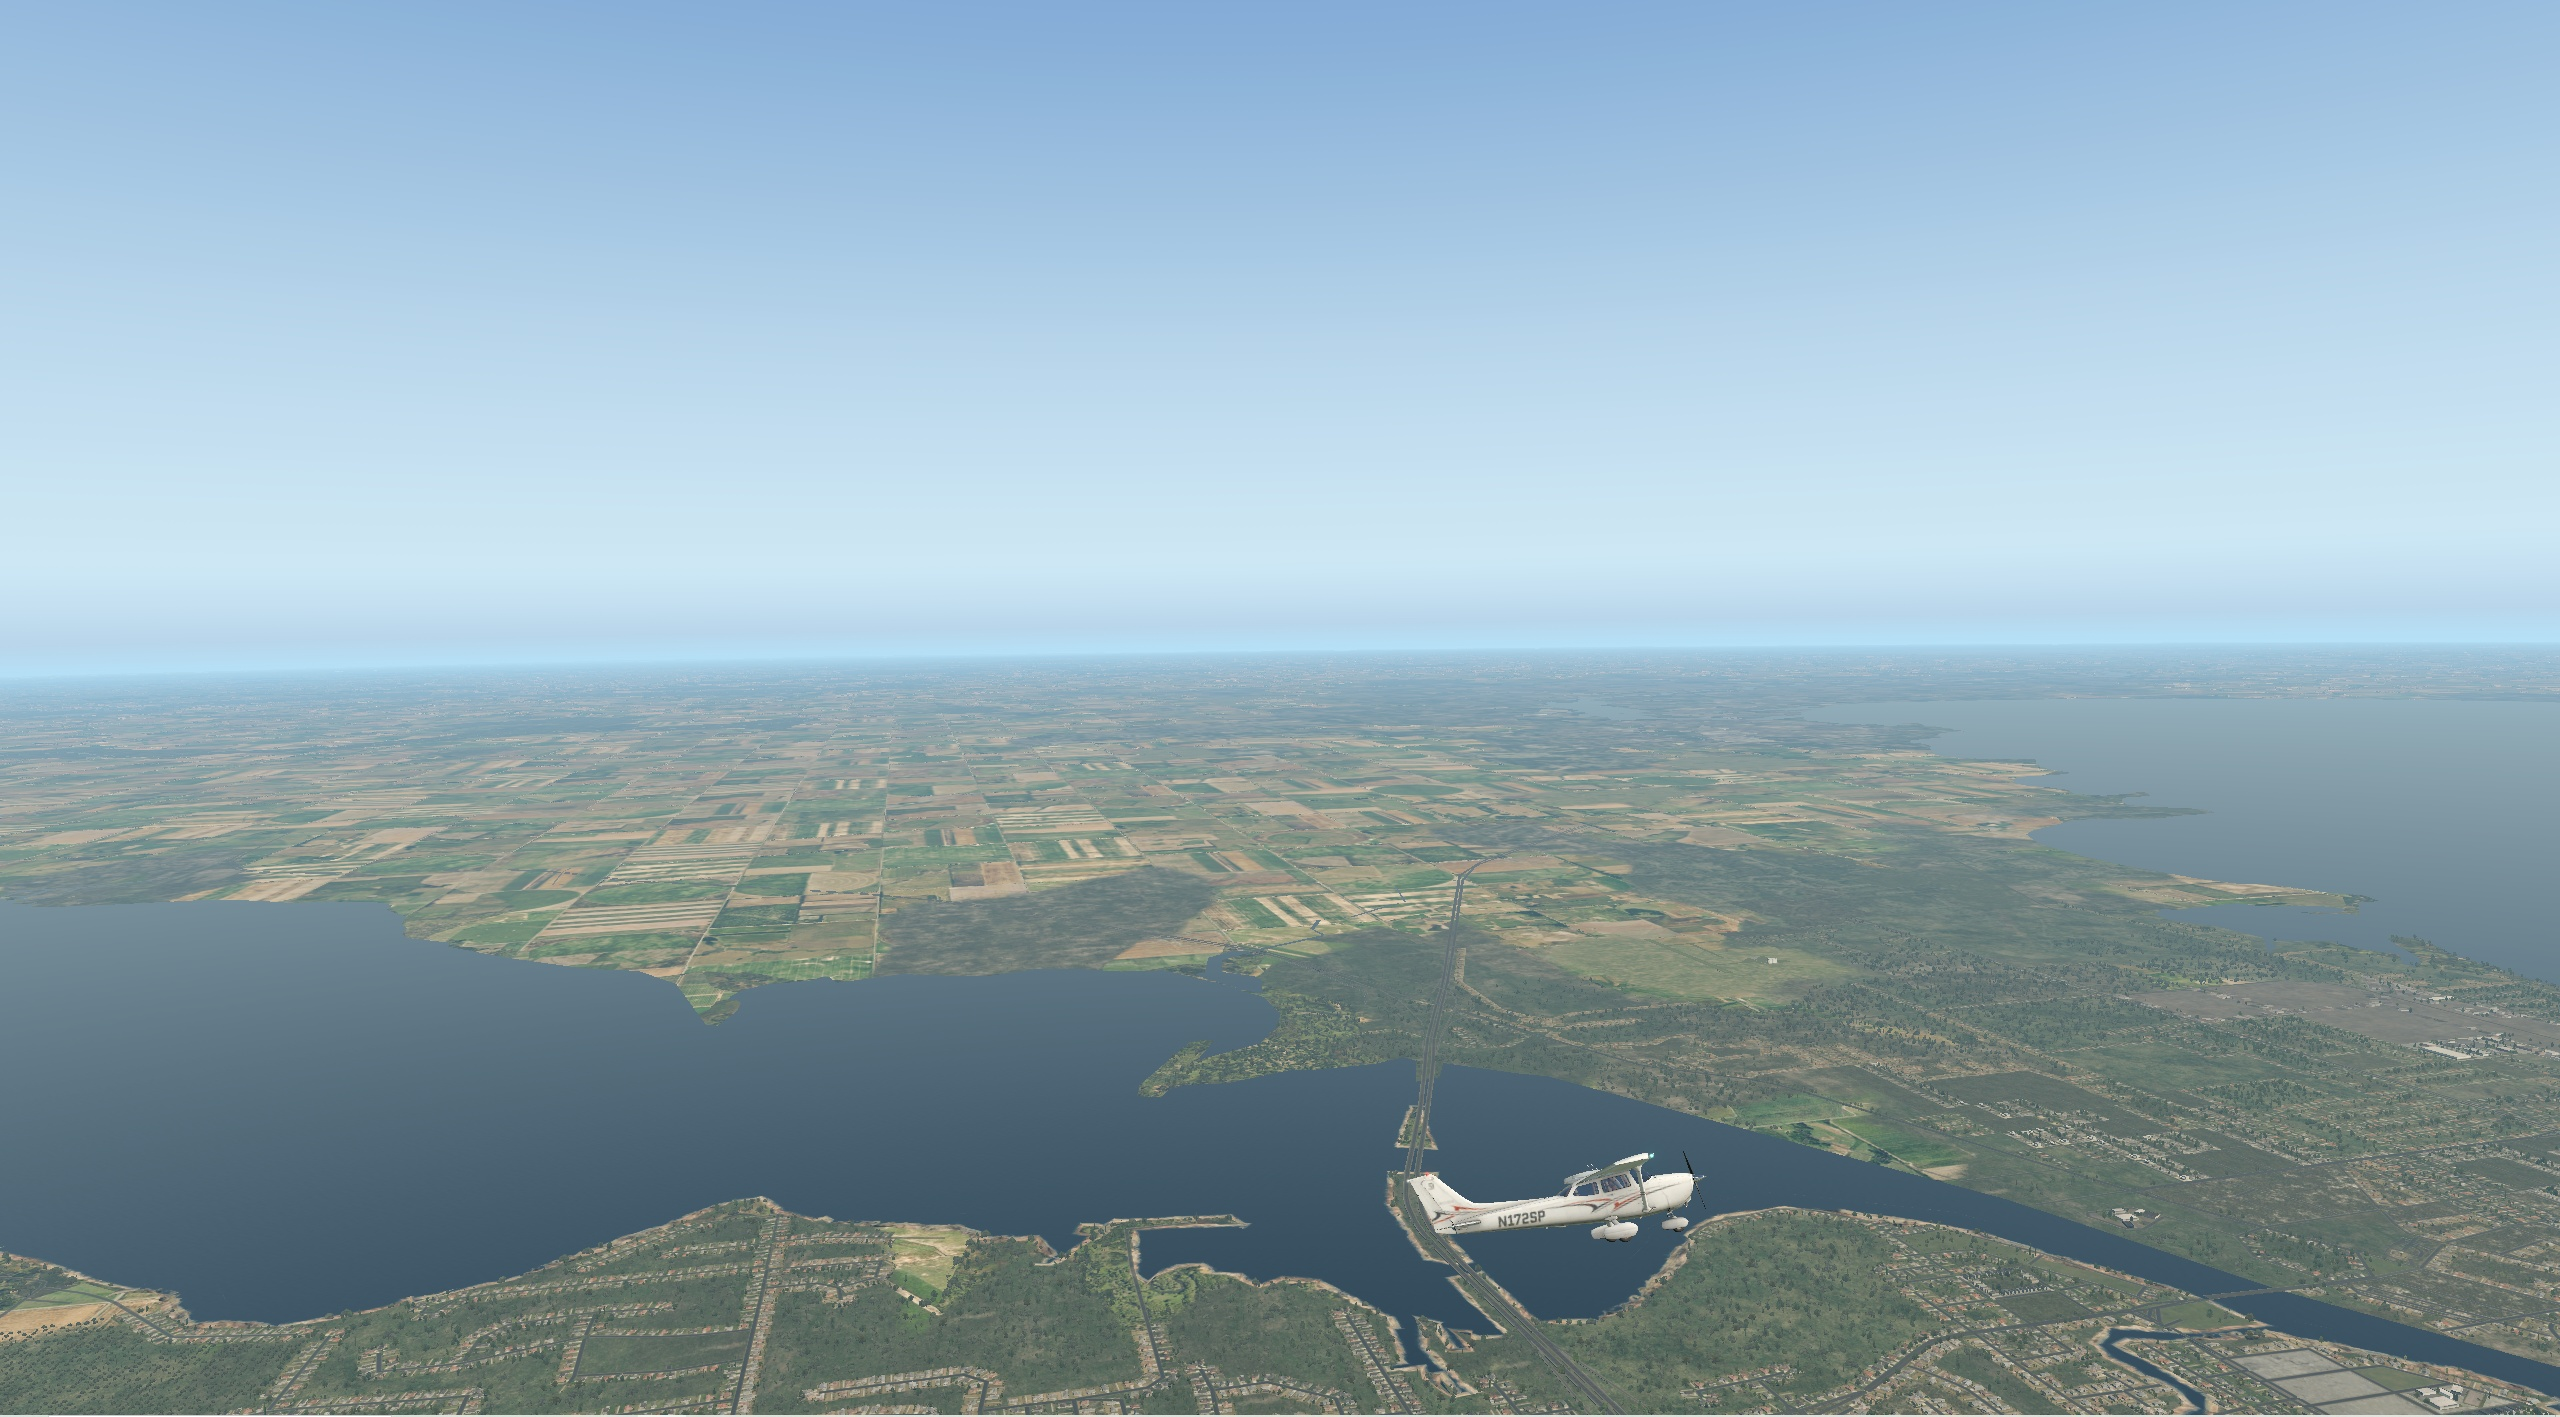aircraft: (1402, 1110, 1837, 1273)
